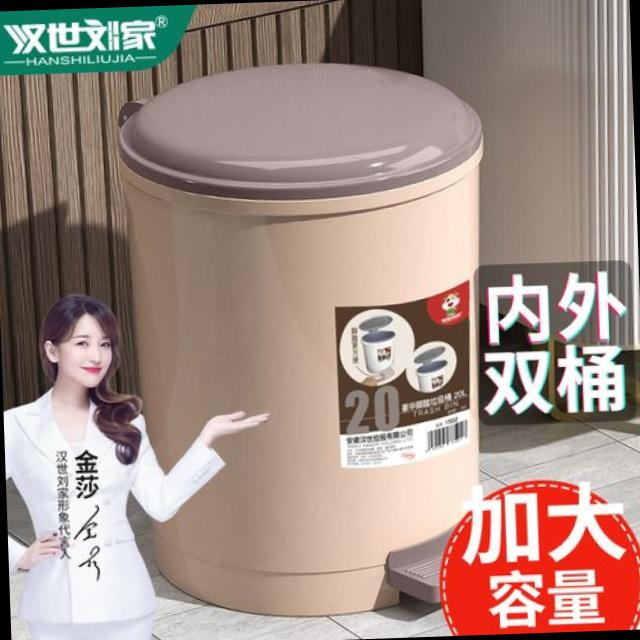dustbin: (114, 56, 508, 632)
